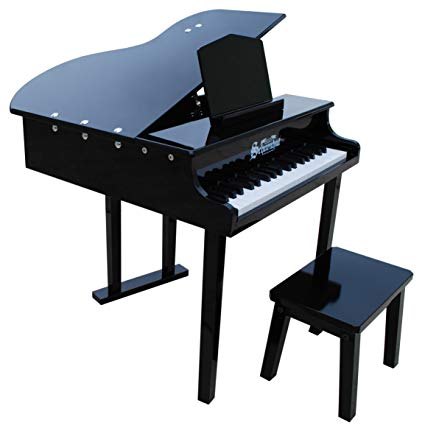GrandPiano: (37, 43, 376, 213)
